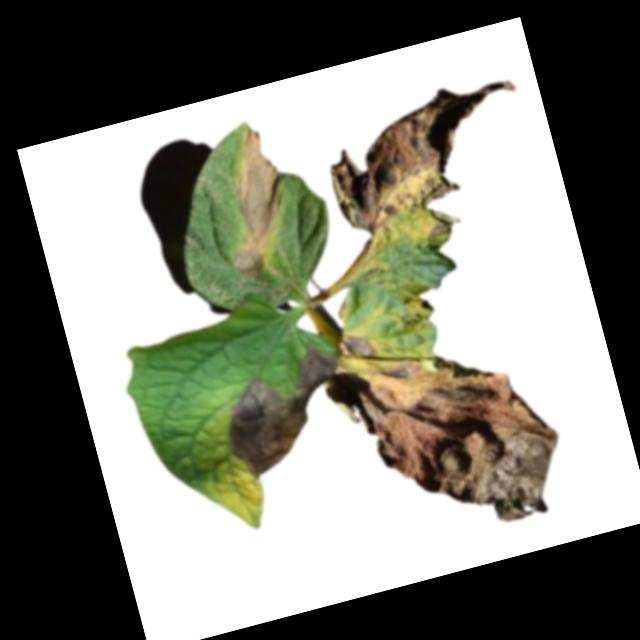Early_blight: (355, 329, 576, 551), (312, 69, 549, 264), (205, 344, 360, 482), (195, 121, 304, 284), (337, 328, 374, 362)
